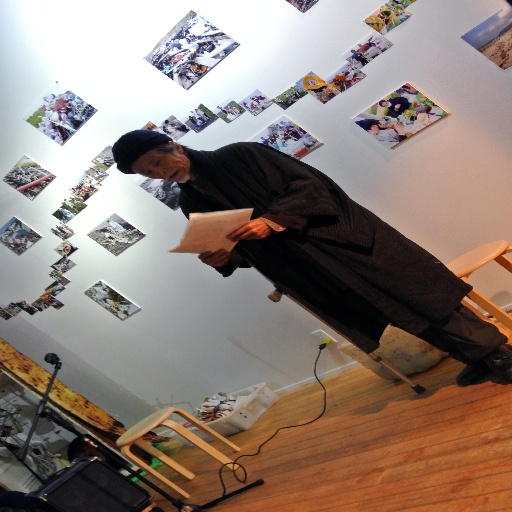hand: (226, 219, 272, 241), (196, 247, 231, 268)
